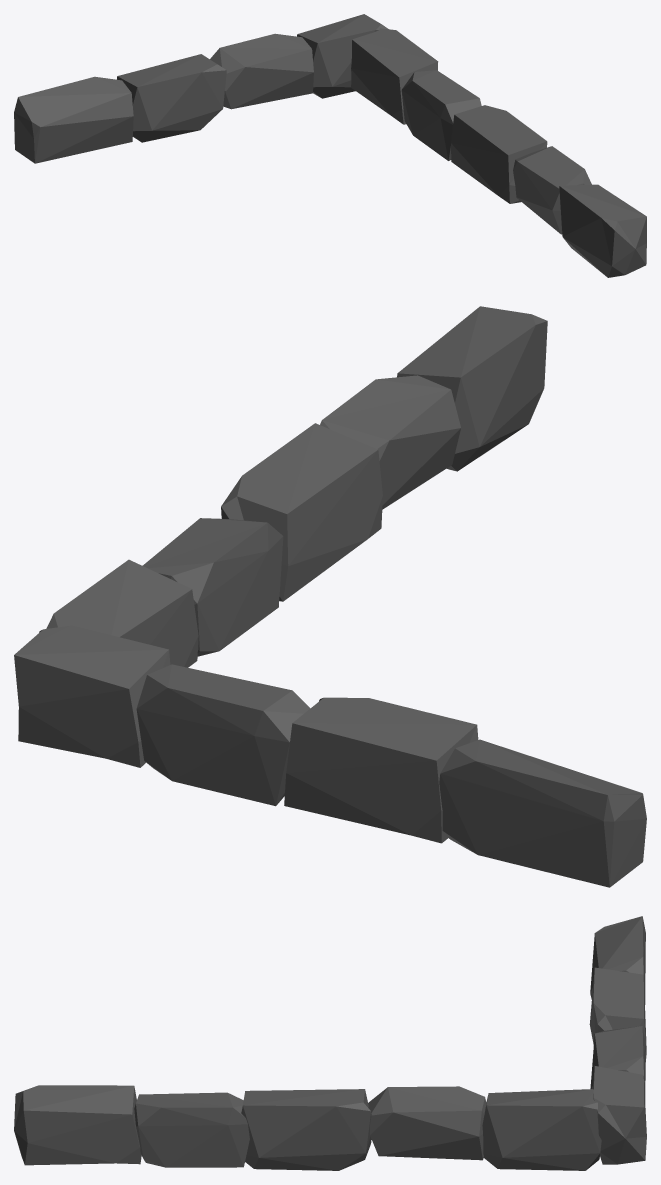
The model's file is foundation_007.glb.
The picture shows the model from 3 angles, top to bottom: view 1: azimuth 30°, elevation 25°; view 2: azimuth 150°, elevation 25°; view 3: azimuth 270°, elevation 25°; orthographic projection. The views are drawn at different scales.
Parts seen in each view (by area): view 1: foundation_007; view 2: foundation_007; view 3: foundation_007.
Part boxes in pixels (box(x1,y1,x2,y2)): foundation_007: box(14, 14, 646, 277); foundation_007: box(14, 306, 646, 887); foundation_007: box(14, 916, 646, 1170).
Bounding box in the file's own units: 7.77 × 1.27 × 10.64.
Materials: 1 (1 with a texture image).
